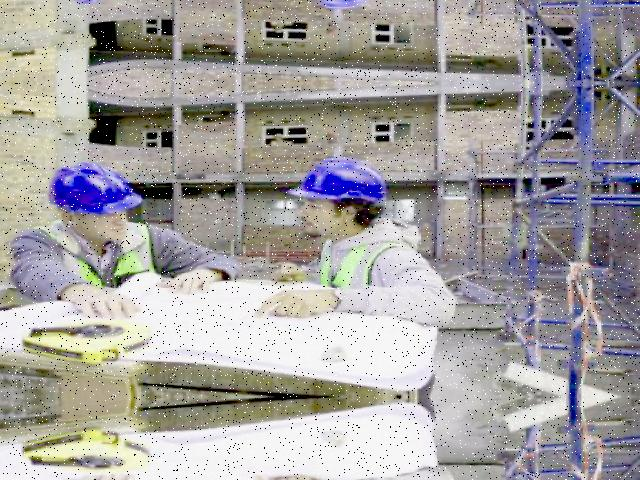Helmet: (279, 152, 391, 209), (41, 159, 144, 218)
